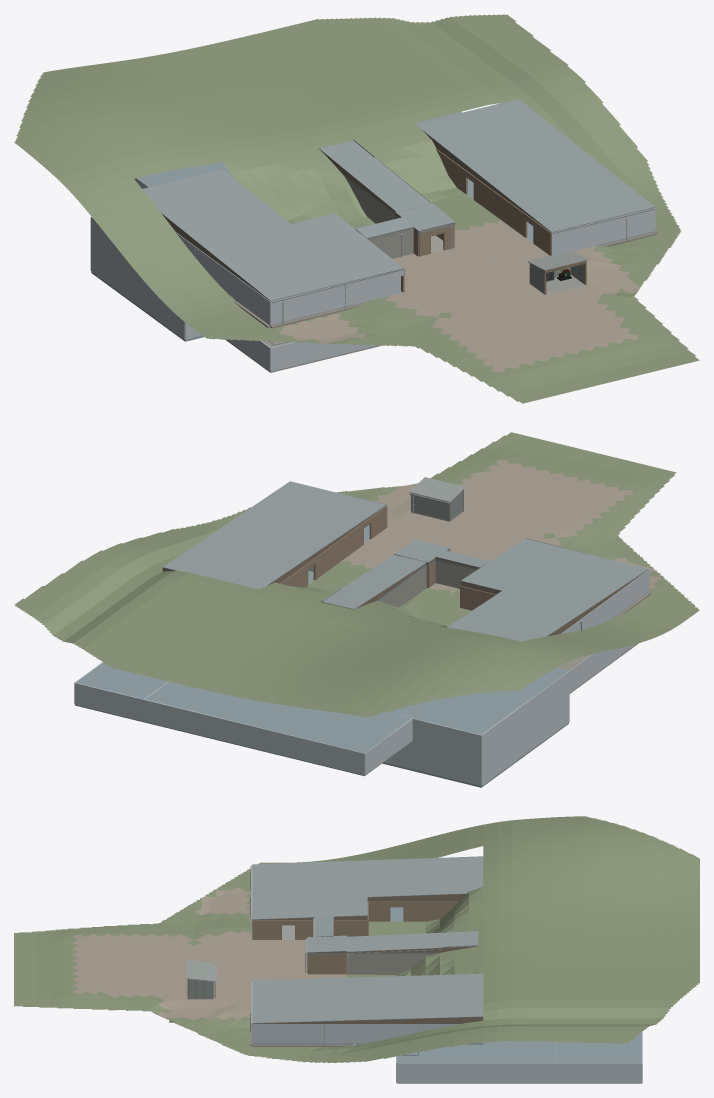
The model's file is mine-case.glb.
3 renders of one model, top to bottom at view 1: azimuth 30°, elevation 25°; view 2: azimuth 150°, elevation 25°; view 3: azimuth 270°, elevation 25°, orthographic. The views are drawn at different scales.
Visible parts, largest first — view 1: WLD-05 runoff saved ground, Mine runoff crew pitched skin, Mine runoff assay pitched skin, Mine runoff wash pitched skin, Mine runoff stores pitched skin, Flat route shell Wall shack S, Mine runoff haul pitched skin, Wall lower W, Wall assay S, Wall vent S, Wall shack W, Mine assay yard door west or north pier region0 (+8 smaller); view 2: WLD-05 runoff saved ground, Mine runoff crew pitched skin, Ceiling cap cross, Mine runoff assay pitched skin, Mine runoff wash pitched skin, Wall cross N, Ceiling cap ore-west, Mine runoff stores pitched skin, Wall lower W, Wall lower N, Mine runoff haul pitched skin, Wall ore-west W (+13 smaller); view 3: WLD-05 runoff saved ground, Mine runoff crew pitched skin, Mine runoff wash pitched skin, Mine runoff assay pitched skin, Mine runoff stores pitched skin, Wall ore-east E, Ceiling cap ore-east, Wall assay E, Mine runoff haul pitched skin, Ceiling cap lift, Wall lift E, Mine haul east retaining wall region0 (+11 smaller).
Boxes of the visible parts, <box> form: WLD-05 runoff saved ground: <box>14,14,699,403</box>; Mine runoff crew pitched skin: <box>202,213,403,300</box>; Mine runoff assay pitched skin: <box>483,153,654,232</box>; Mine runoff wash pitched skin: <box>416,99,586,177</box>; Mine runoff stores pitched skin: <box>142,169,290,245</box>; Flat route shell Wall shack S: <box>270,269,403,324</box>; Mine runoff haul pitched skin: <box>319,140,430,211</box>; Wall lower W: <box>90,240,185,339</box>; Wall assay S: <box>551,208,655,255</box>; Wall vent S: <box>270,341,375,371</box>; Wall shack W: <box>201,251,270,324</box>; Mine assay yard door west or north pier region0: <box>482,183,525,236</box>; WLD-05 runoff saved ground: <box>14,432,699,717</box>; Mine runoff crew pitched skin: <box>461,538,648,610</box>; Ceiling cap cross: <box>145,681,411,753</box>; Mine runoff assay pitched skin: <box>226,481,386,547</box>; Mine runoff wash pitched skin: <box>162,524,322,589</box>; Wall cross N: <box>143,699,364,775</box>; Ceiling cap ore-west: <box>388,668,568,734</box>; Mine runoff stores pitched skin: <box>447,591,584,641</box>; Wall lower W: <box>481,693,569,785</box>; Wall lower N: <box>384,740,481,785</box>; Mine runoff haul pitched skin: <box>321,555,426,609</box>; Wall ore-west W: <box>481,671,569,756</box>; WLD-05 runoff saved ground: <box>14,816,699,1062</box>; Mine runoff crew pitched skin: <box>252,860,367,919</box>; Mine runoff wash pitched skin: <box>367,973,483,1020</box>; Mine runoff assay pitched skin: <box>252,977,367,1023</box>; Mine runoff stores pitched skin: <box>367,856,483,897</box>; Wall ore-east E: <box>396,1063,555,1082</box>; Ceiling cap ore-east: <box>396,1040,555,1062</box>; Wall assay E: <box>252,1024,367,1043</box>; Mine runoff haul pitched skin: <box>346,931,478,952</box>; Ceiling cap lift: <box>555,1032,642,1062</box>; Wall lift E: <box>555,1063,642,1082</box>; Mine haul east retaining wall region0: <box>346,954,435,974</box>.
Size of the model in its own units: 70 by 18.95 by 95.
113 materials, 71 textured.
